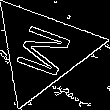M_E: (9, 19, 77, 81)
